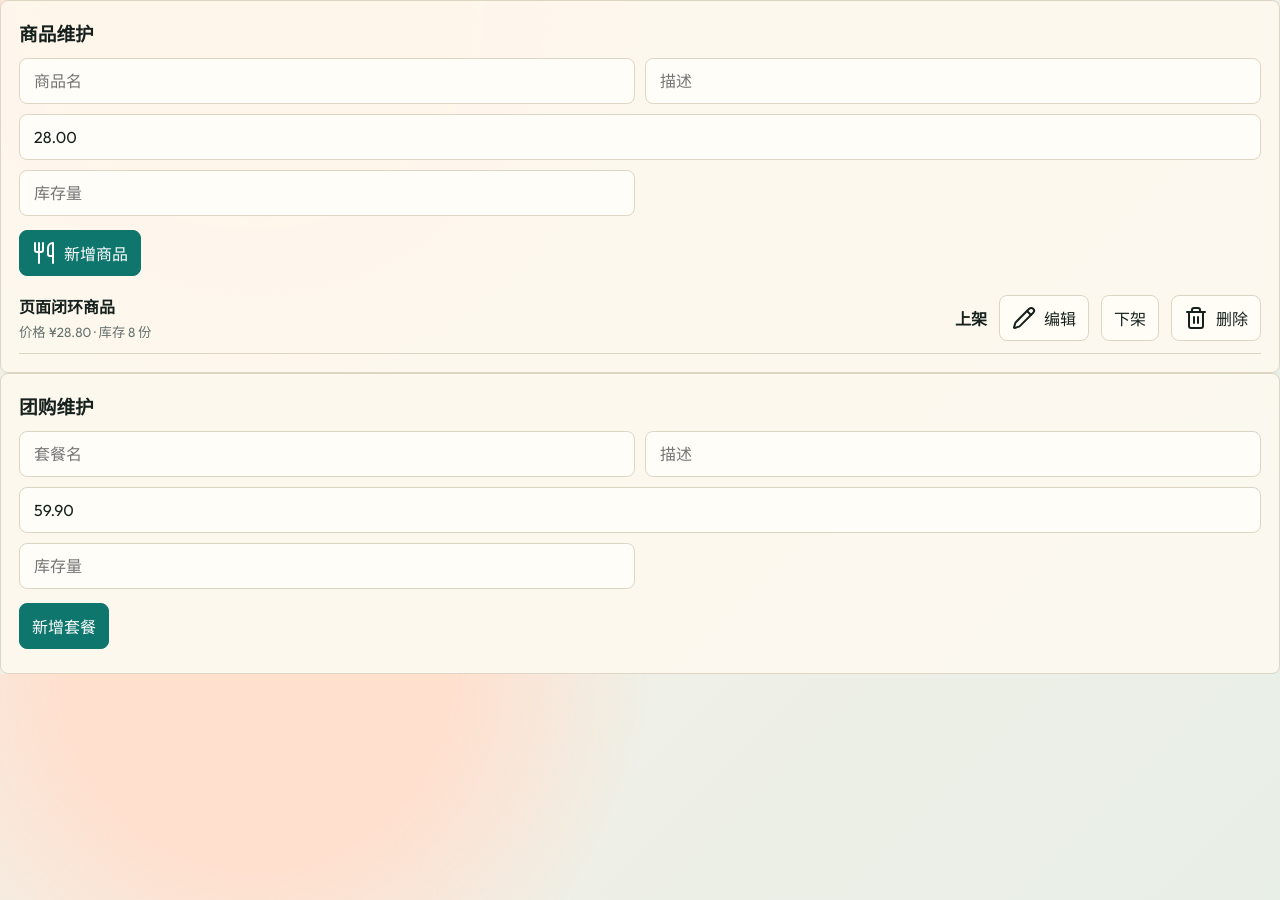
Test: UC07 页面级编辑发布下架闭环 › allows a merchant to edit, publish, and unpublish a product from the maintenance page
Expected: the element with test id "product-row-9001" is shown, [19,282,1261,354]
Click the button with test id "product-edit-9001" at (1044, 318), box [999,294,1089,340]
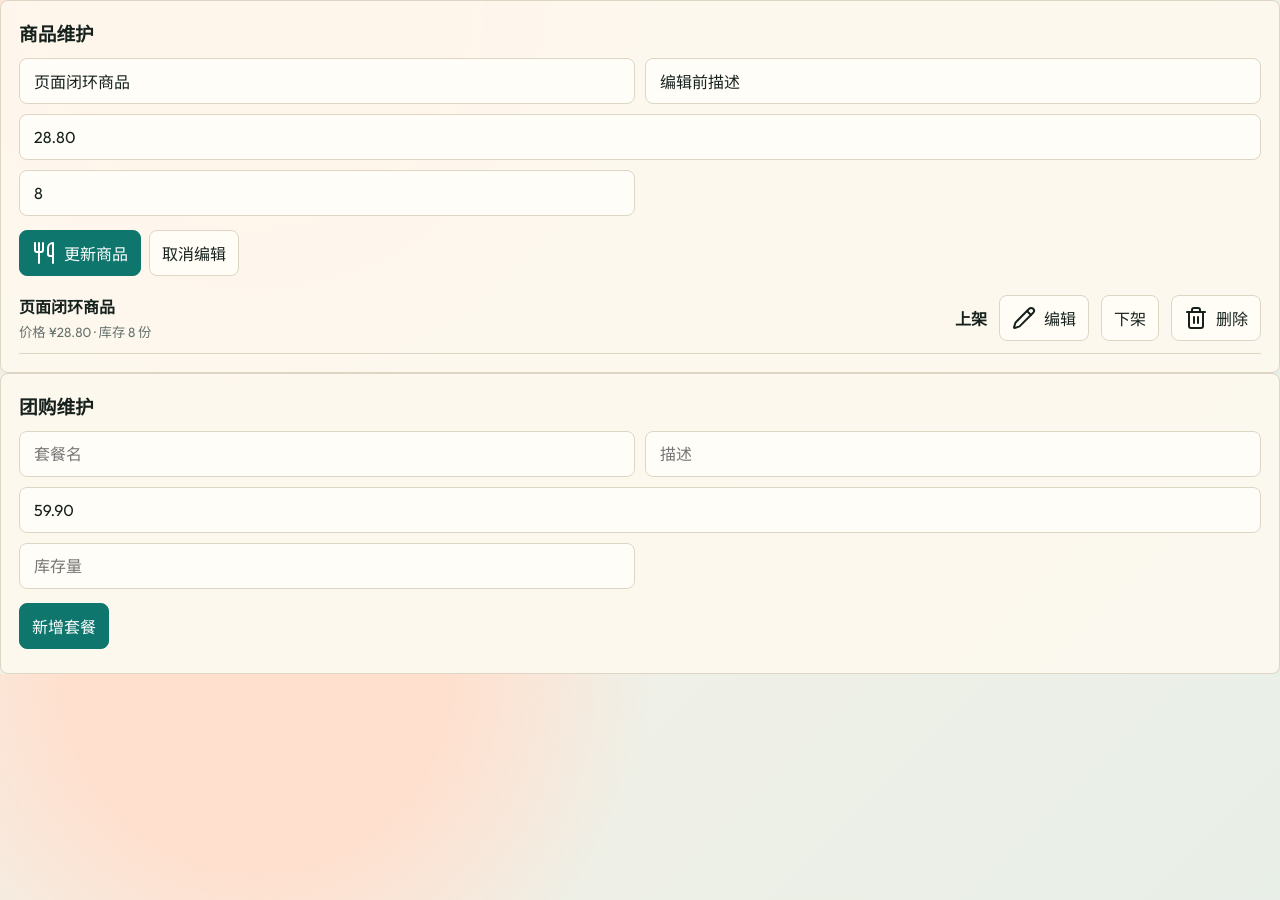
Replace the text in the field with test id "product-name" with "页面闭环商品-已编辑" at (327, 81), box [19,58,635,104]
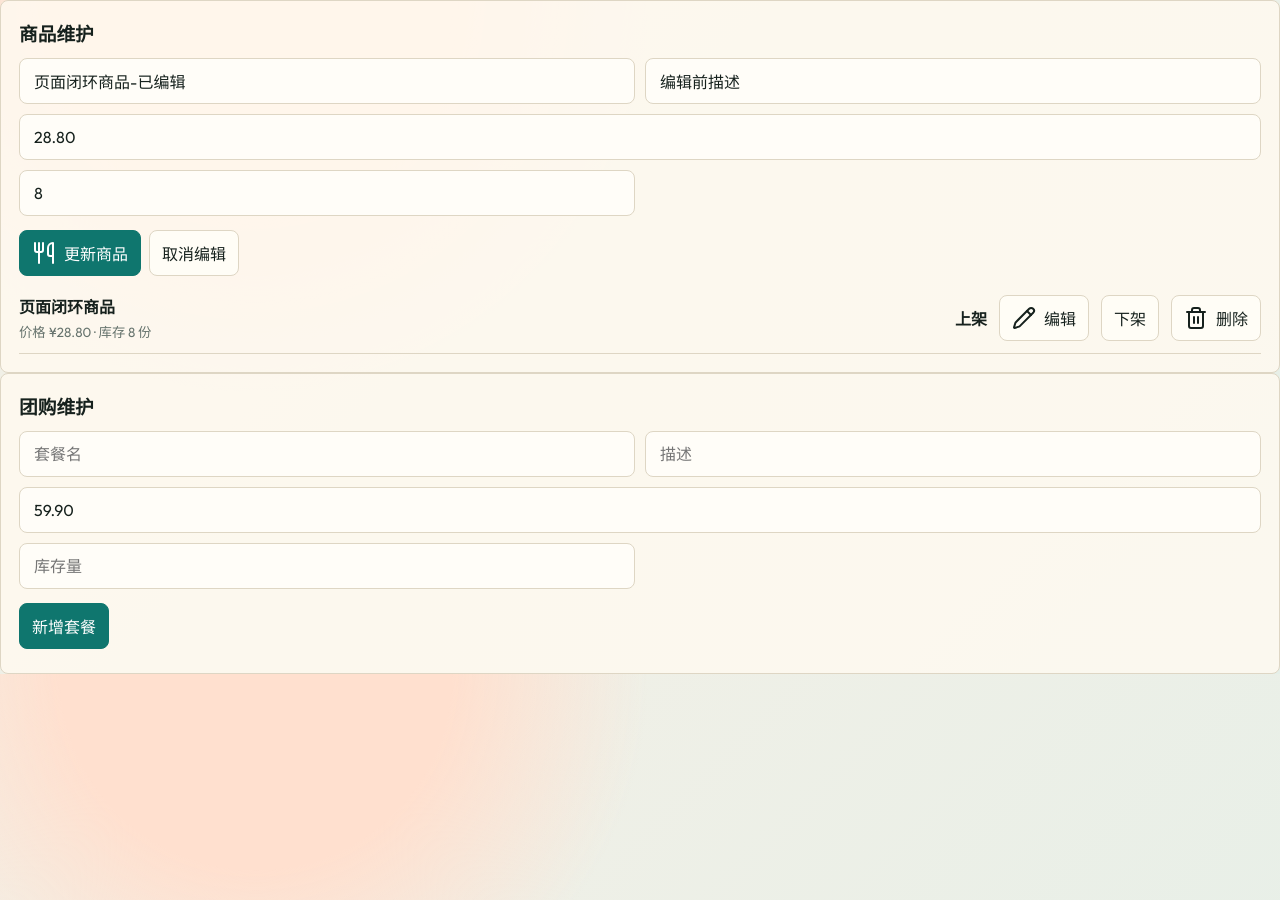
Replace the text in the field with test id "product-description" with "编辑后描述" at (953, 81), box [645,58,1261,104]
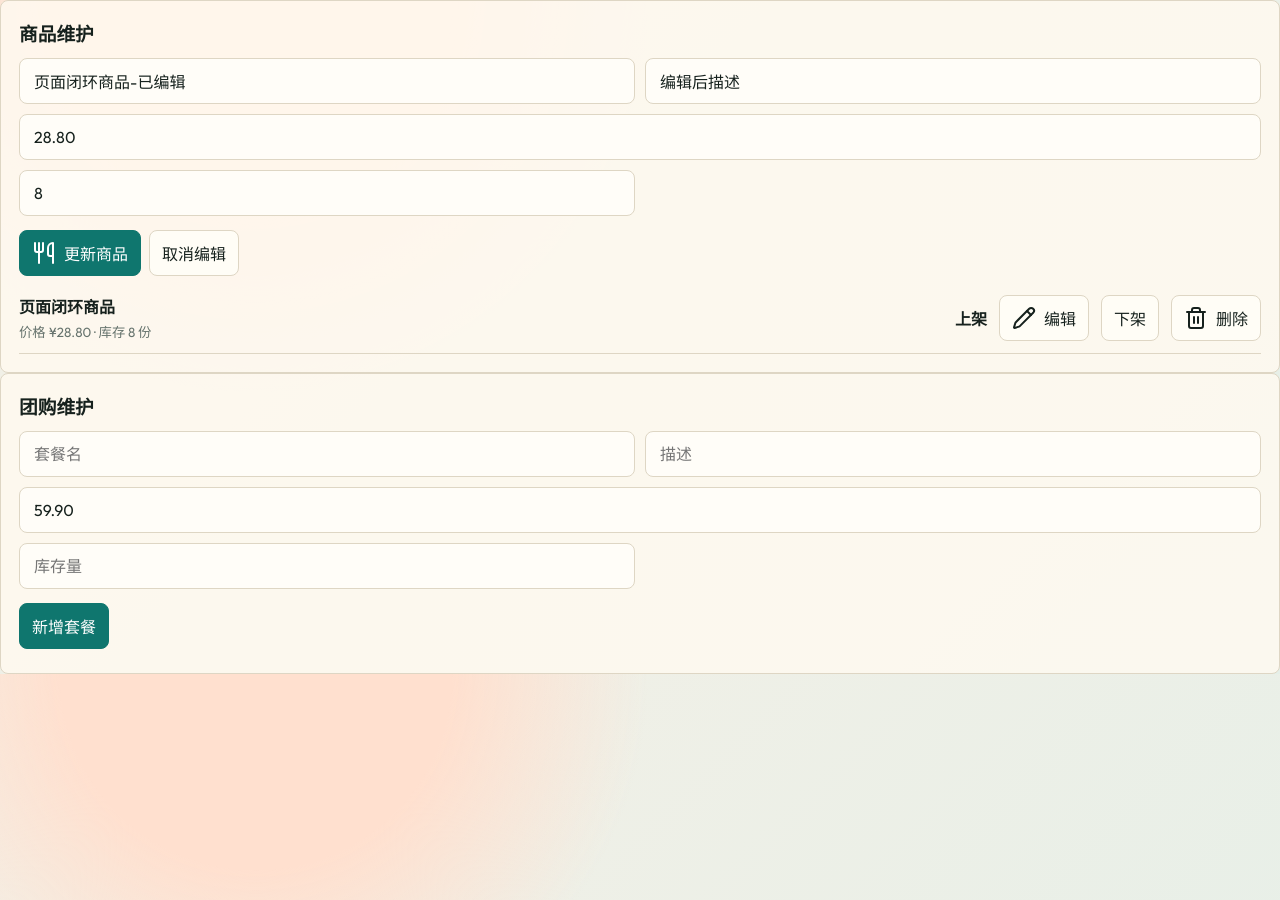
Click the button with test id "product-save" at (80, 253), box [19,230,141,276]
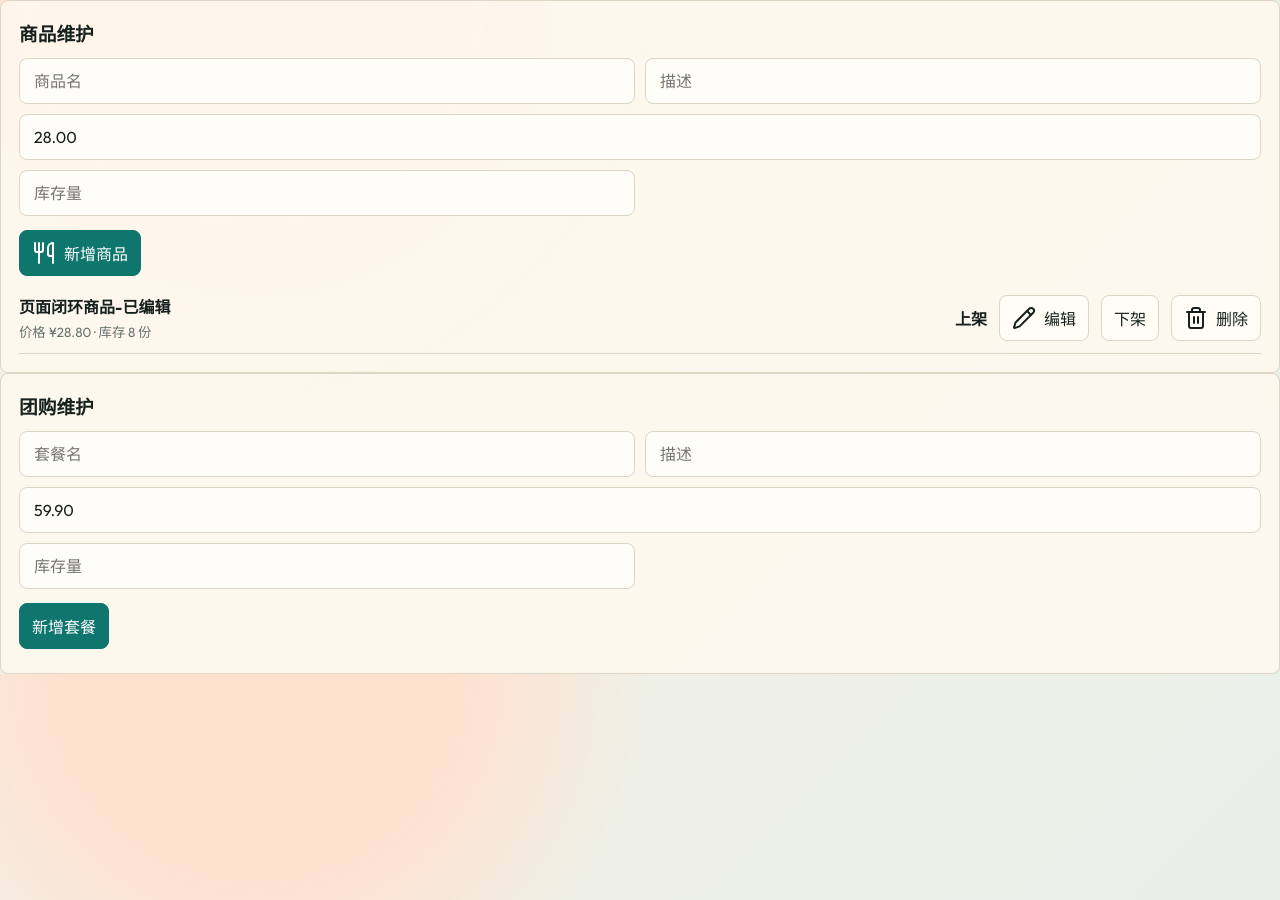
Expected: the text with test id "product-name-9001" reads "页面闭环商品-已编辑", [19,297,170,317]
Click the button with test id "product-toggle-9001" at (1130, 318), box [1101,294,1159,340]
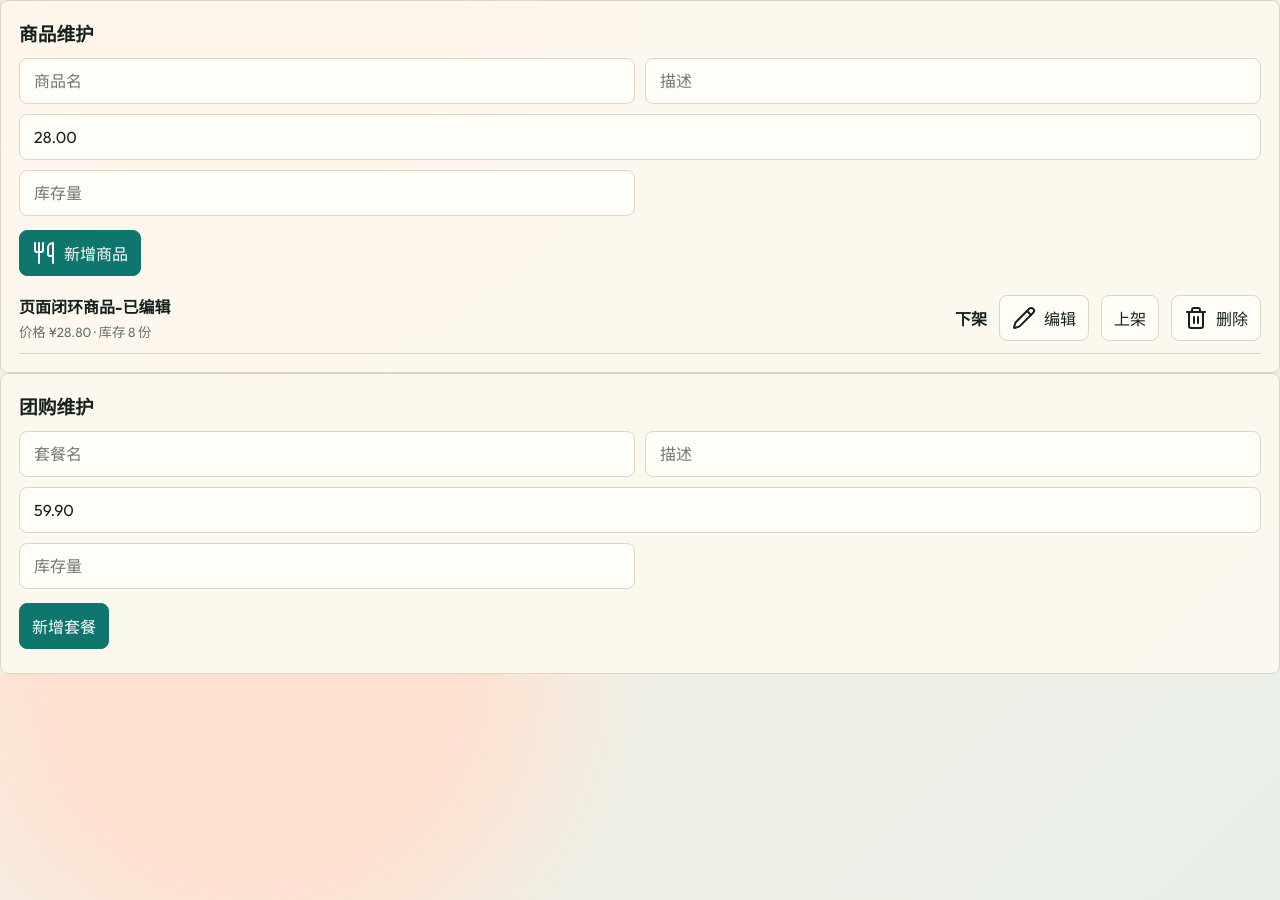
Expected: the text with test id "product-status-9001" reads "下架", [955,308,987,328]
